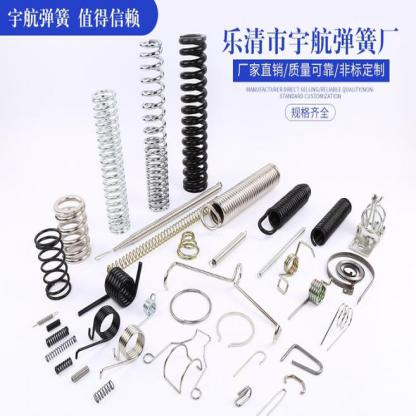FOD: (105, 193, 212, 276), (104, 178, 223, 251), (198, 159, 282, 235), (90, 85, 132, 235), (138, 37, 172, 212), (176, 30, 210, 194), (76, 259, 144, 318), (31, 223, 74, 302), (258, 176, 312, 235), (52, 192, 95, 264), (75, 304, 122, 358), (275, 236, 316, 296), (286, 272, 333, 324), (98, 322, 146, 372), (308, 195, 350, 249), (320, 297, 354, 353), (208, 223, 248, 269), (44, 332, 78, 364), (174, 228, 201, 258), (139, 290, 159, 322), (92, 377, 115, 404), (44, 324, 70, 347), (30, 308, 57, 327), (51, 354, 74, 374), (69, 364, 90, 383)
